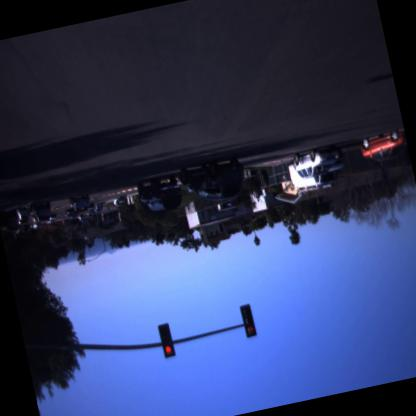trafficlight: (236, 299, 260, 339), (154, 321, 177, 360)
